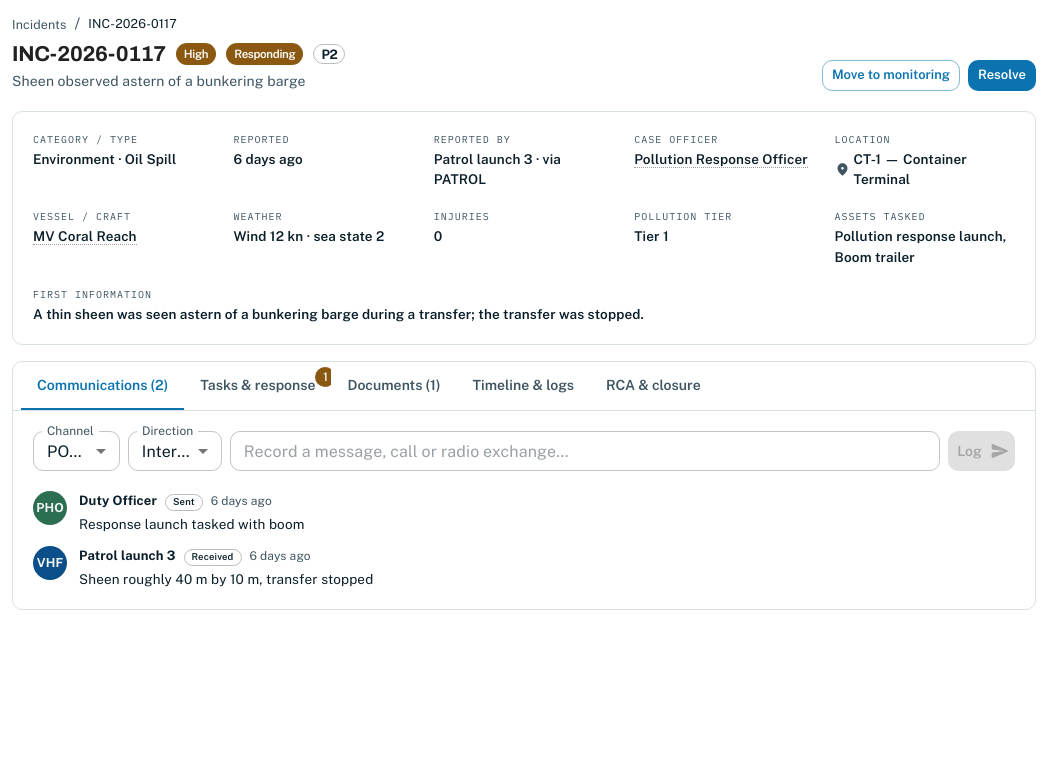
Scenario: Incident case file › draws the facts, the threads and the lifecycle moves the case allows
Check: the heading "INC-2026-0117 High Responding P2" is shown, box [12,40,346,69]
Check: the text "Sheen observed astern of a bunkering barge" is shown, box [12,71,346,91]
Click the tab "Tasks & response 1" at (258, 386), box [184,362,332,410]
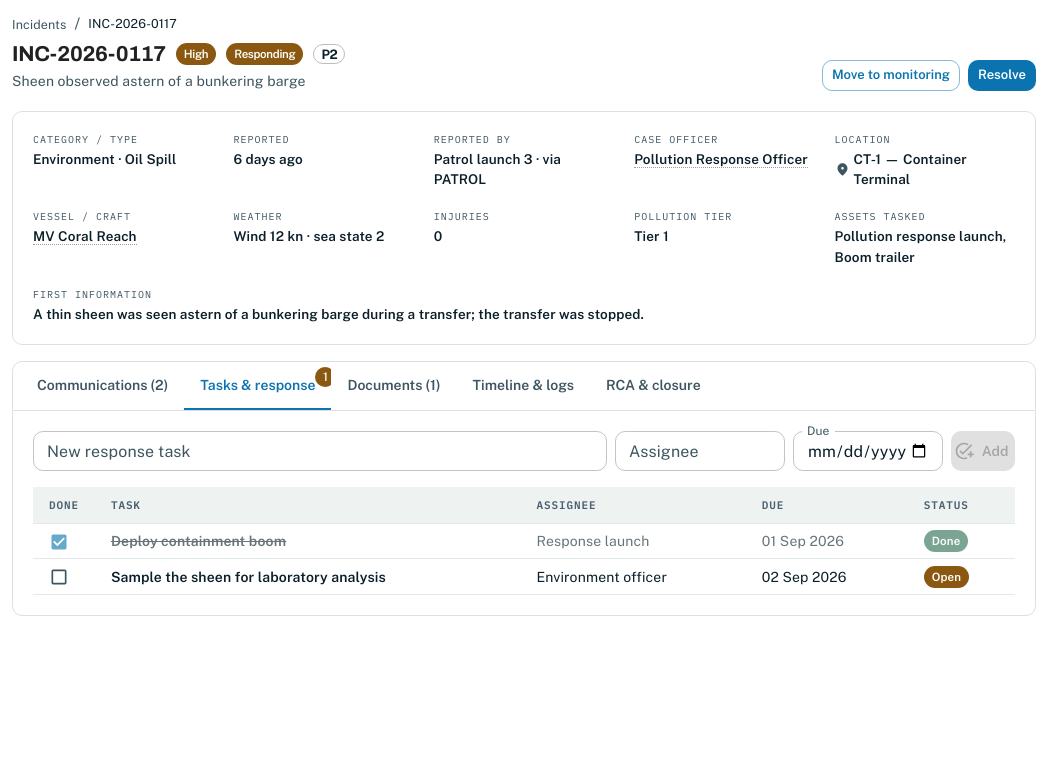
Check: the text "Deploy containment boom" is shown, box [95,524,520,559]
Check: the text "Environment officer" is shown, box [520,559,746,594]
Check: the text "Done" is shown, box [932,534,960,548]
Click the tab "Documents (1)" at (394, 386), box [332,362,456,410]
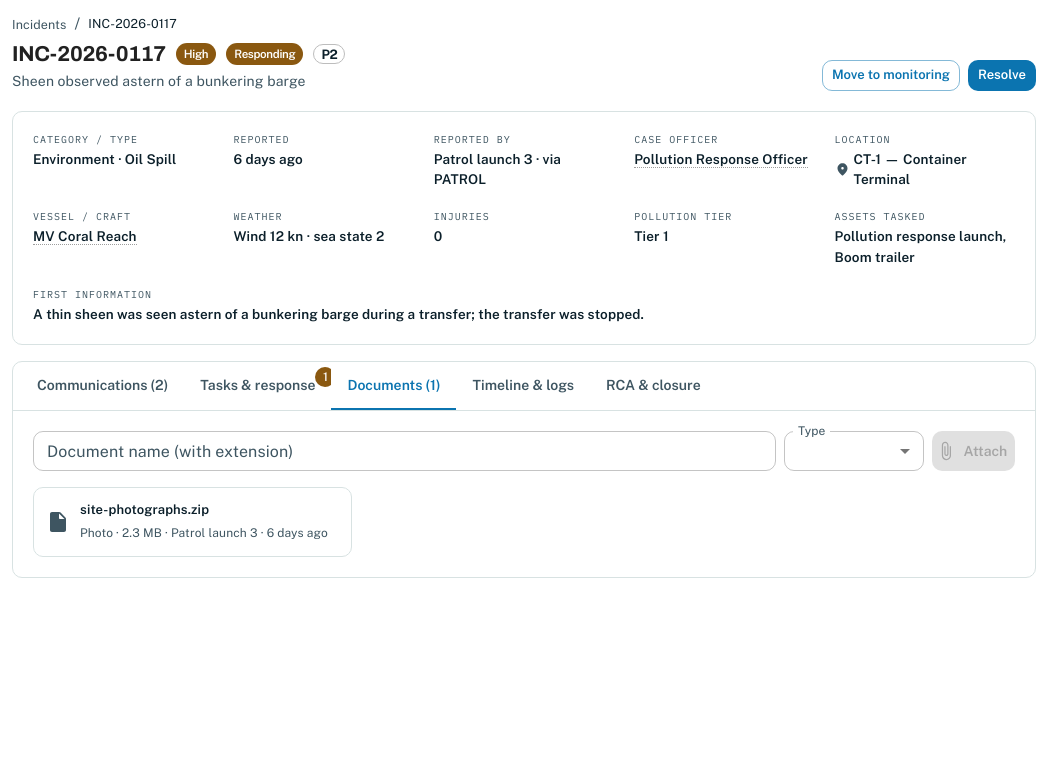
Check: the text "site-photographs.zip" is shown, box [80,502,209,517]
Check: the text "Photo · 2.3 MB · Patrol launch 3 · 6 days ago" is shown, box [80,526,328,540]
Click the tab "Timeline & logs" at (523, 386), box [456,362,590,410]
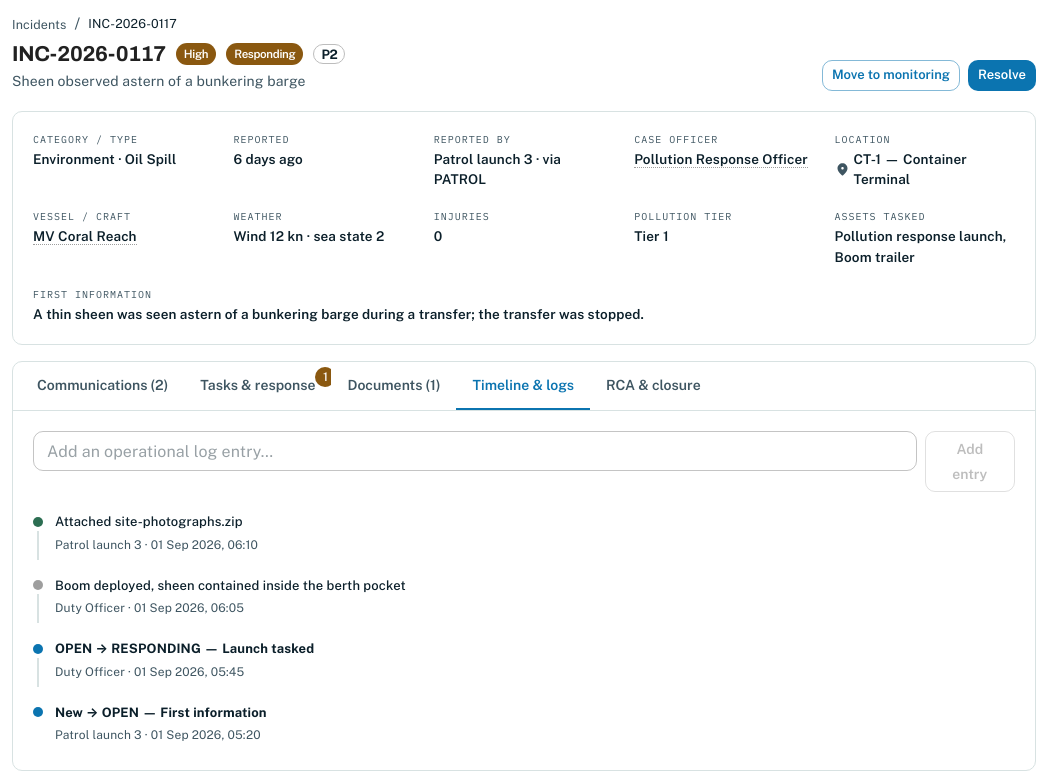
Check: the text "Boom deployed, sheen contained inside the berth pocket" is shown, box [55,576,406,595]
Check: the text "OPEN → RESPONDING — Launch tasked" is shown, box [55,639,314,659]
Check: the text "Attached site-photographs.zip" is shown, box [55,512,258,532]
